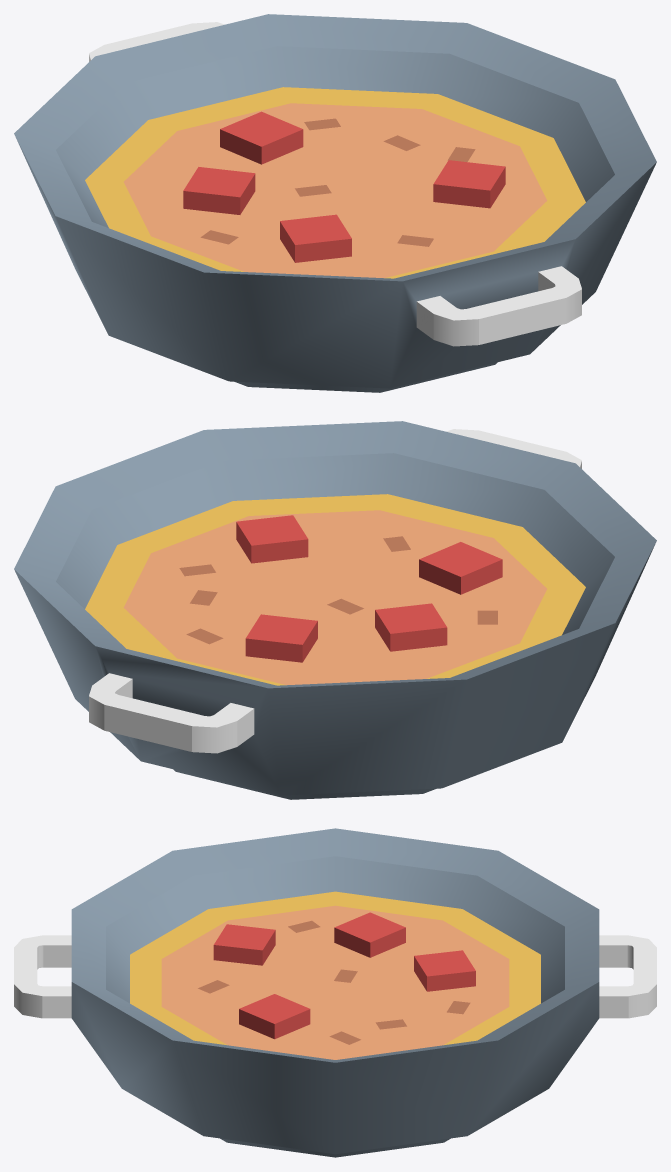
Rendered from Pan_Stew.glb.
3 views of the same model, one above another, from view 1: azimuth 30°, elevation 25°; view 2: azimuth 150°, elevation 25°; view 3: azimuth 270°, elevation 25° (orthographic). The views are drawn at different scales.
Parts seen in each view (by area): view 1: panStew; view 2: panStew; view 3: panStew.
Boxes of the visible parts, x1,y1,x2,y2 form: panStew: [14, 14, 656, 392]; panStew: [14, 421, 656, 799]; panStew: [14, 828, 656, 1157].
Size of the model in its own units: 0.6574 by 0.1753 by 0.7621.
